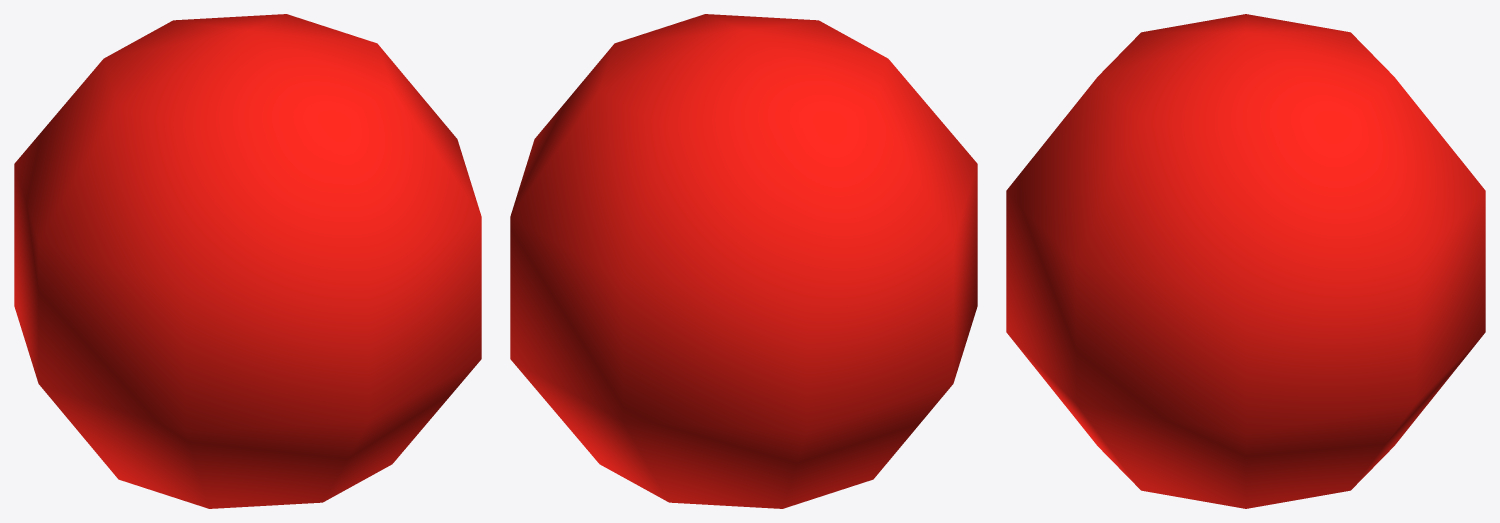
The model's file is bne_afl_red.dae.
The picture shows the model from 3 angles, left to right: view 1: azimuth 30°, elevation 25°; view 2: azimuth 150°, elevation 25°; view 3: azimuth 270°, elevation 25°; orthographic projection.
Parts seen in each view (by area): view 1: glow2; view 2: glow2; view 3: glow2.
Part boxes in pixels (x1=…): glow2: x1=14, y1=14, x2=481, y2=508; glow2: x1=510, y1=14, x2=977, y2=508; glow2: x1=1006, y1=14, x2=1485, y2=508.
Size of the model in its own units: 3.2 by 3.2 by 3.36.
